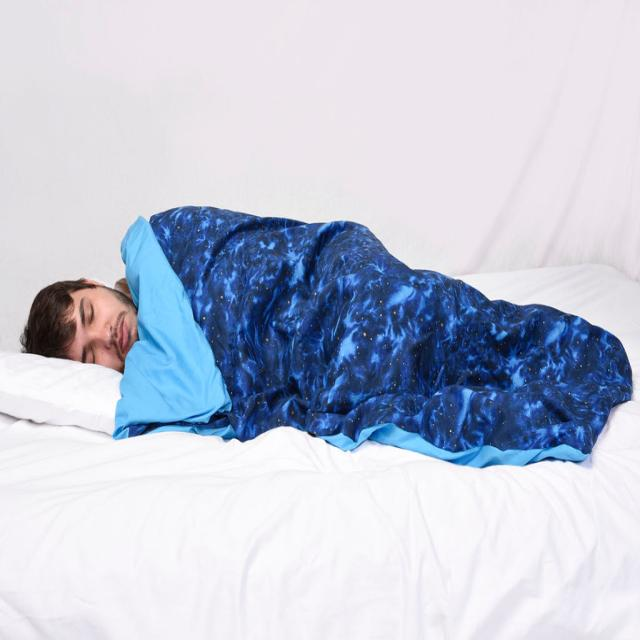blanket: (115, 208, 634, 466)
